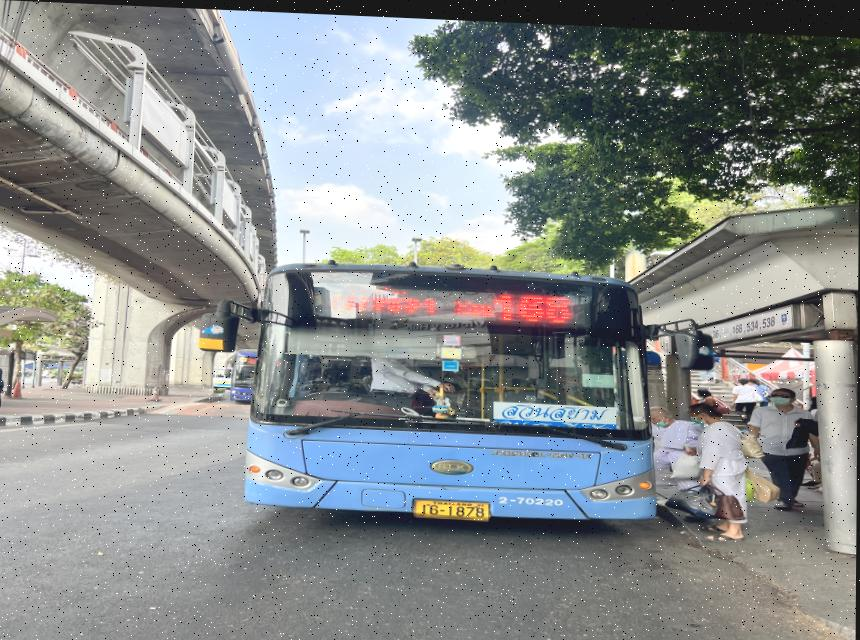BMTA-bus: (243, 262, 658, 522)
Bus Line Number: (490, 285, 577, 322)
Bus Side Number: (494, 491, 567, 504)
Destination Sign: (493, 395, 619, 425)
